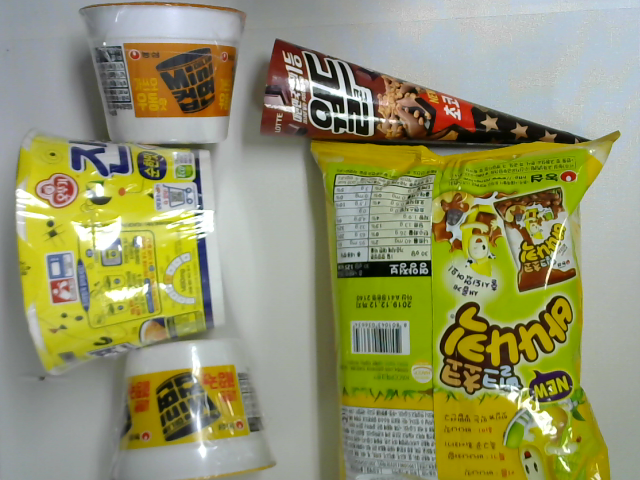Banana_Kick: (306, 131, 624, 480)
Hejangmini: (102, 335, 282, 480)
Jinlamyeon_Mild_Taste_Large_Cup: (13, 130, 231, 381)
Udongmini: (65, 1, 252, 150)
World_Cone_Choco: (256, 36, 628, 158)
